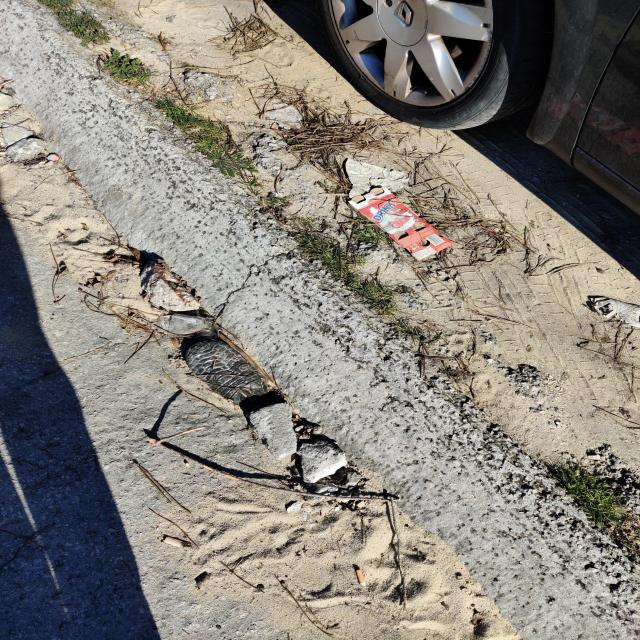litter: (352, 186, 447, 262)
